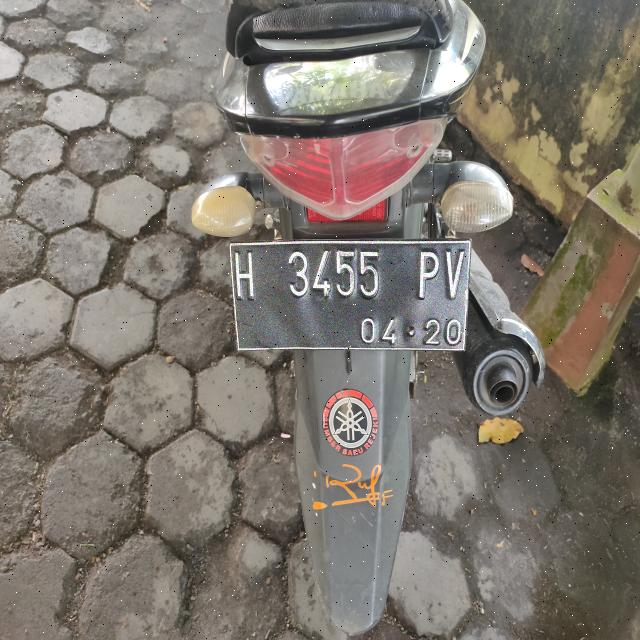plate: (230, 240, 470, 349)
